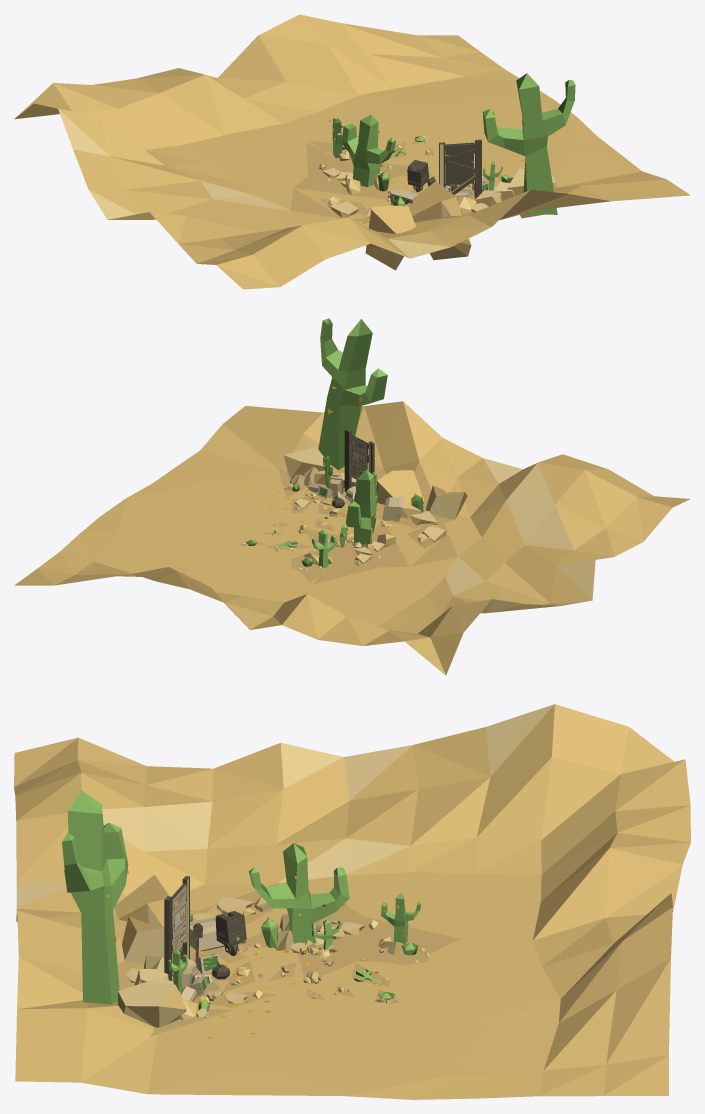
Rendered from pconwheel_copy_3.glb.
3 renders of one model, top to bottom at view 1: azimuth 30°, elevation 25°; view 2: azimuth 150°, elevation 25°; view 3: azimuth 270°, elevation 25°, orthographic. The views are drawn at different scales.
Visible parts, largest first — view 1: floor, cactus.005, cactus, Ad-mywork, rock.061, rock.062, pc, rock.055; view 2: floor, cactus.005, cactus, Ad-mywork, rock.061, rock.062, rock.055; view 3: floor, cactus.005, cactus, rock.055, Ad-mywork, rock.062, rock.061, pc, shadow.013, cactus.001, broken-pc.006.
Boxes of the visible parts, x1,y1,x2,y2 form: floor: (14, 14, 690, 289); cactus.005: (482, 73, 575, 214); cactus: (341, 114, 395, 187); Ad-mywork: (439, 139, 481, 198); rock.061: (406, 181, 471, 259); rock.062: (365, 205, 416, 270); pc: (407, 160, 428, 194); rock.055: (507, 168, 555, 218); floor: (14, 401, 690, 675); cactus.005: (318, 318, 387, 470); cactus: (345, 469, 377, 544); Ad-mywork: (344, 429, 374, 491); rock.061: (377, 470, 424, 506); rock.062: (425, 485, 467, 519); rock.055: (283, 447, 325, 478); floor: (14, 704, 690, 1099); cactus.005: (62, 790, 128, 1004); cactus: (248, 843, 349, 943); rock.055: (118, 980, 186, 1027); Ad-mywork: (164, 876, 189, 980); rock.062: (115, 874, 172, 927); rock.061: (122, 916, 190, 965); pc: (215, 911, 246, 962); shadow.013: (343, 938, 460, 965); cactus.001: (381, 893, 421, 944); broken-pc.006: (190, 916, 224, 951).
Bounding box in the file's own units: 53.36 × 20.68 × 47.2.
1 material, 1 textured.
